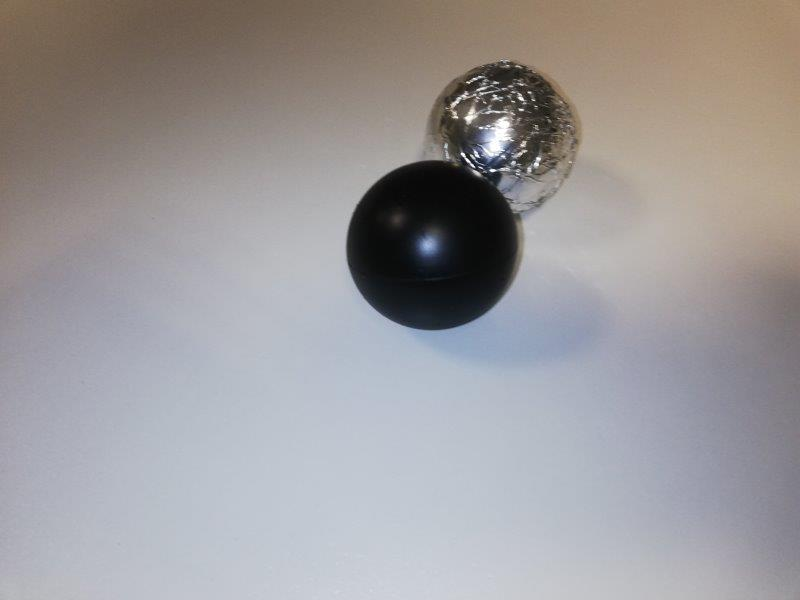bianca: (421, 61, 578, 213)
nera: (347, 163, 514, 328)
